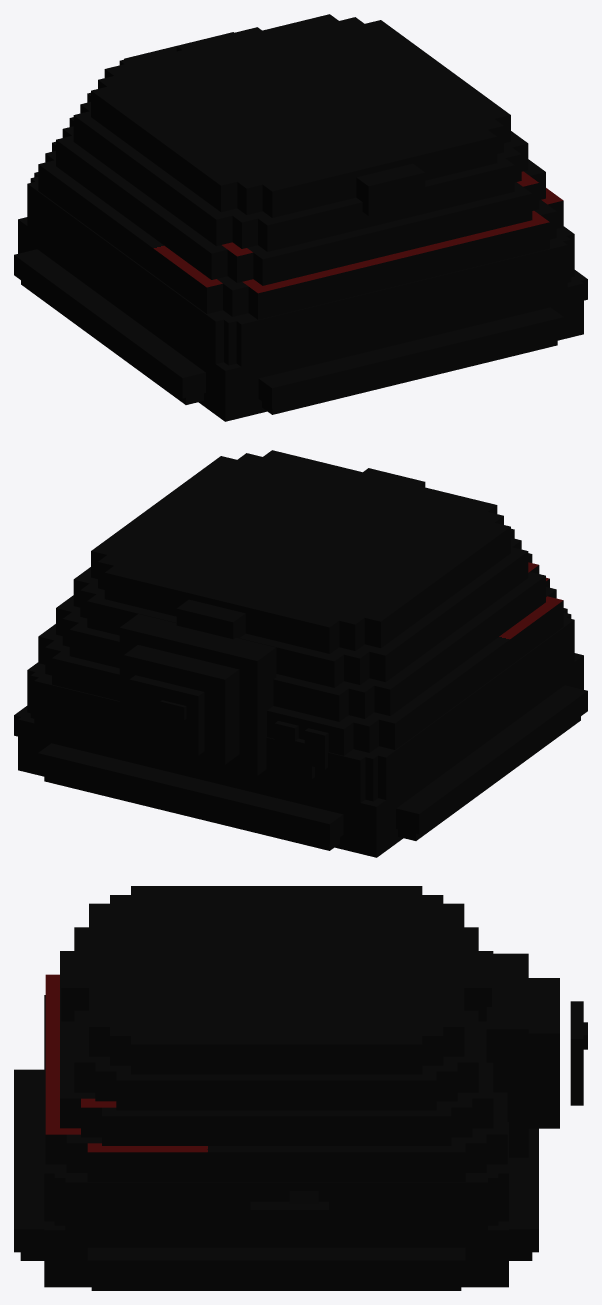
Rendered from hat_miner.obj.
The picture shows the model from 3 angles, top to bottom: view 1: azimuth 30°, elevation 25°; view 2: azimuth 150°, elevation 25°; view 3: azimuth 270°, elevation 25°; orthographic projection. The views are drawn at different scales.
Bounding box in the file's own units: 0.625 × 0.2938 × 0.6831.
